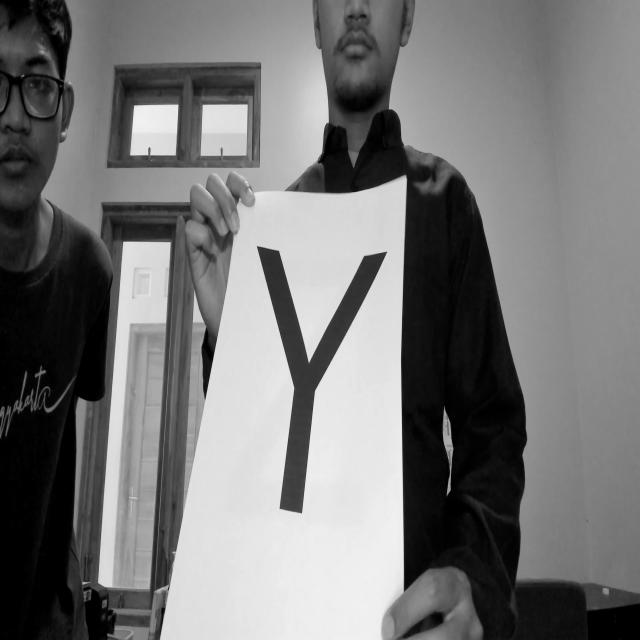y: (245, 227, 389, 539)
